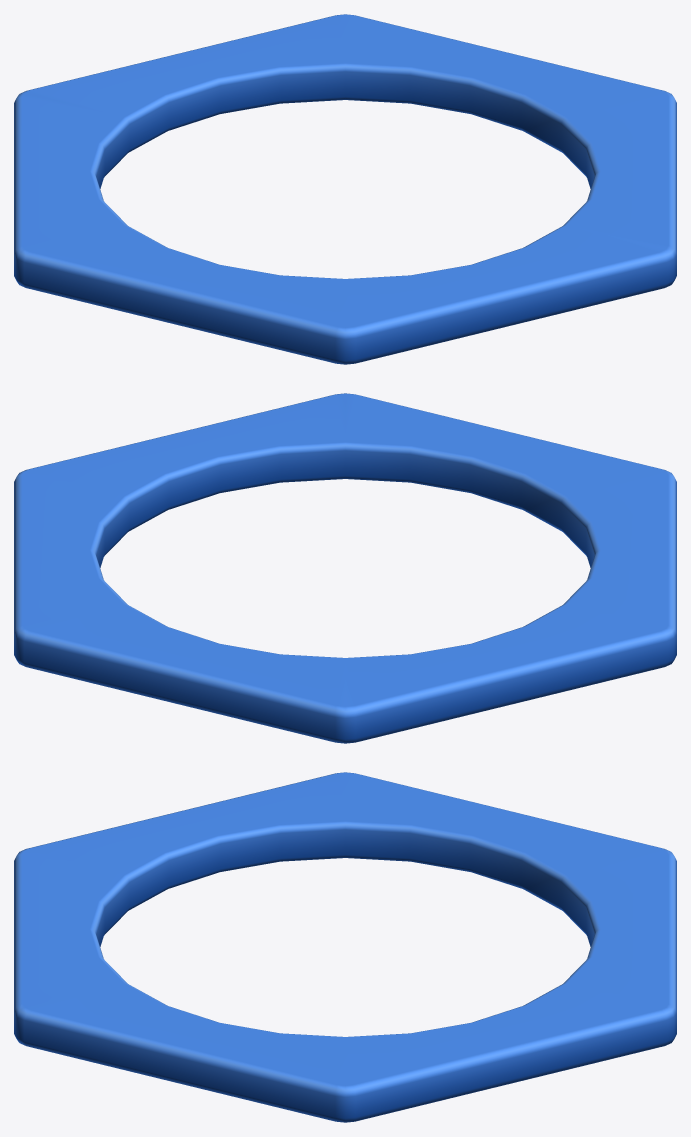
The picture shows the model from 3 angles, top to bottom: view 1: azimuth 30°, elevation 25°; view 2: azimuth 150°, elevation 25°; view 3: azimuth 270°, elevation 25°; orthographic projection.
Parts seen in each view (by area): view 1: base_001; view 2: base_001; view 3: base_001.
Boxes of the visible parts, x1=… form: base_001: x1=14, y1=14, x2=676, y2=364; base_001: x1=14, y1=393, x2=676, y2=743; base_001: x1=14, y1=772, x2=676, y2=1122.
Bounding box in the file's own units: 4158 × 3634 × 221.
